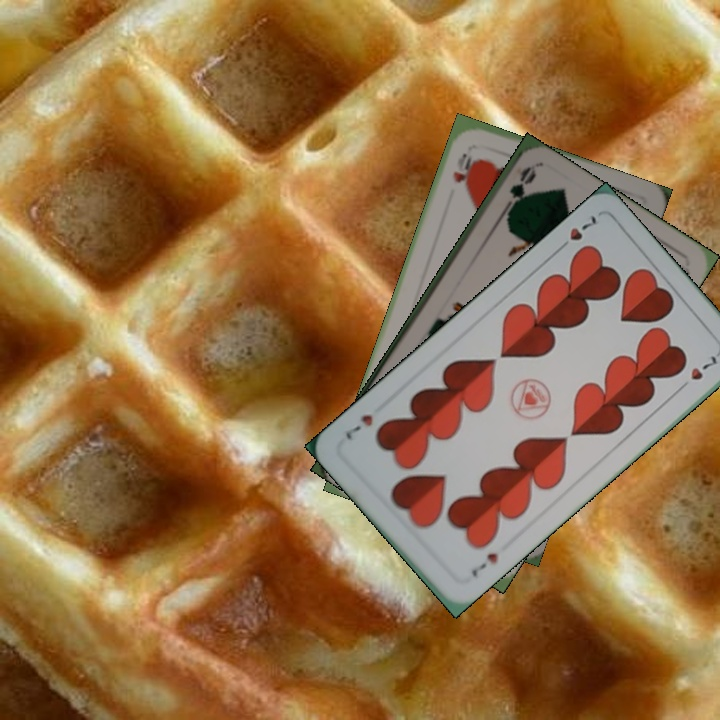GO: (497, 163, 539, 221)
H7: (552, 211, 599, 255), (467, 548, 501, 580)
HO: (449, 147, 476, 186)
